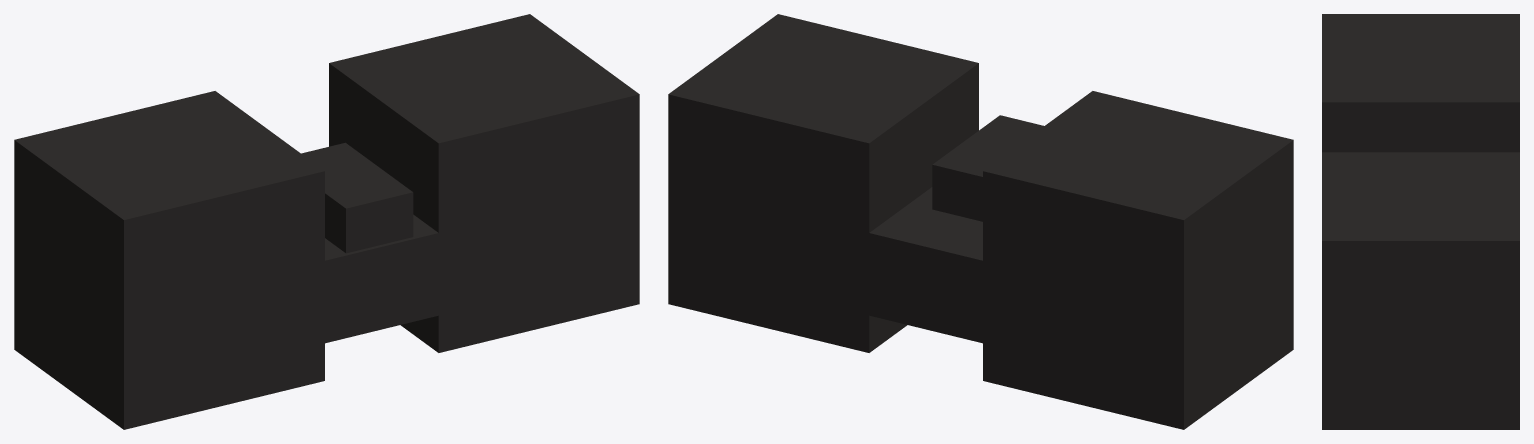
Rendered from Rifle_DoubleDrumMag.FBX.
The picture shows the model from 3 angles, left to right: view 1: azimuth 30°, elevation 25°; view 2: azimuth 150°, elevation 25°; view 3: azimuth 270°, elevation 25°; orthographic projection. The views are drawn at different scales.
Visible parts, largest first — view 1: DoubleDrumMag; view 2: DoubleDrumMag; view 3: DoubleDrumMag.
Part boxes in pixels (<box>): DoubleDrumMag: <box>14,14,639,429</box>; DoubleDrumMag: <box>668,14,1293,429</box>; DoubleDrumMag: <box>1322,14,1519,429</box>.
Size of the model in its own units: 50.95 by 18.78 by 19.8.
